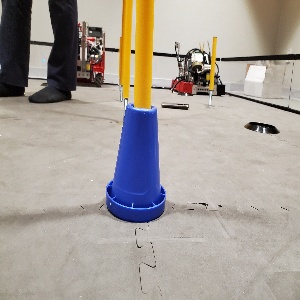Blue_1: (105, 100, 167, 222)
